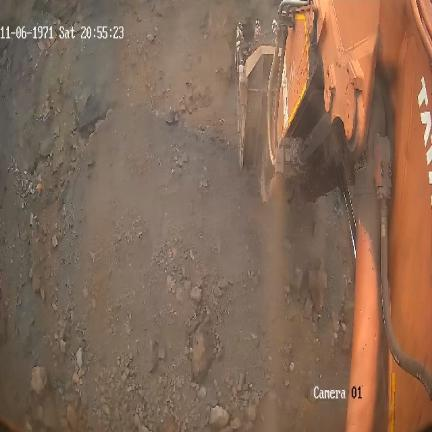pile: (1, 1, 343, 432)
